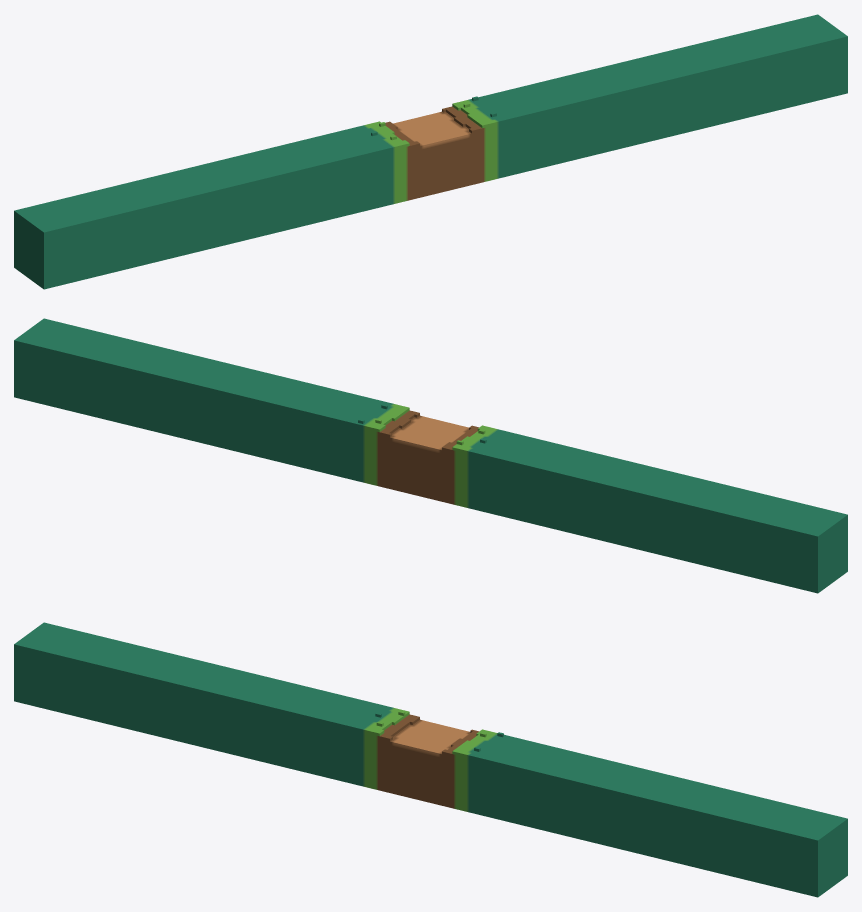
The model's file is Floor.fbx.
3 views of the same model, one above another, from view 1: azimuth 30°, elevation 25°; view 2: azimuth 150°, elevation 25°; view 3: azimuth 330°, elevation 25° (orthographic).
Parts seen in each view (by area): view 1: floor; view 2: floor; view 3: floor.
Boxes of the visible parts, <box> form: floor: <box>14,14,847,289</box>; floor: <box>14,318,847,593</box>; floor: <box>14,622,847,897</box>.
Size of the model in its own units: 310 by 22 by 20.
